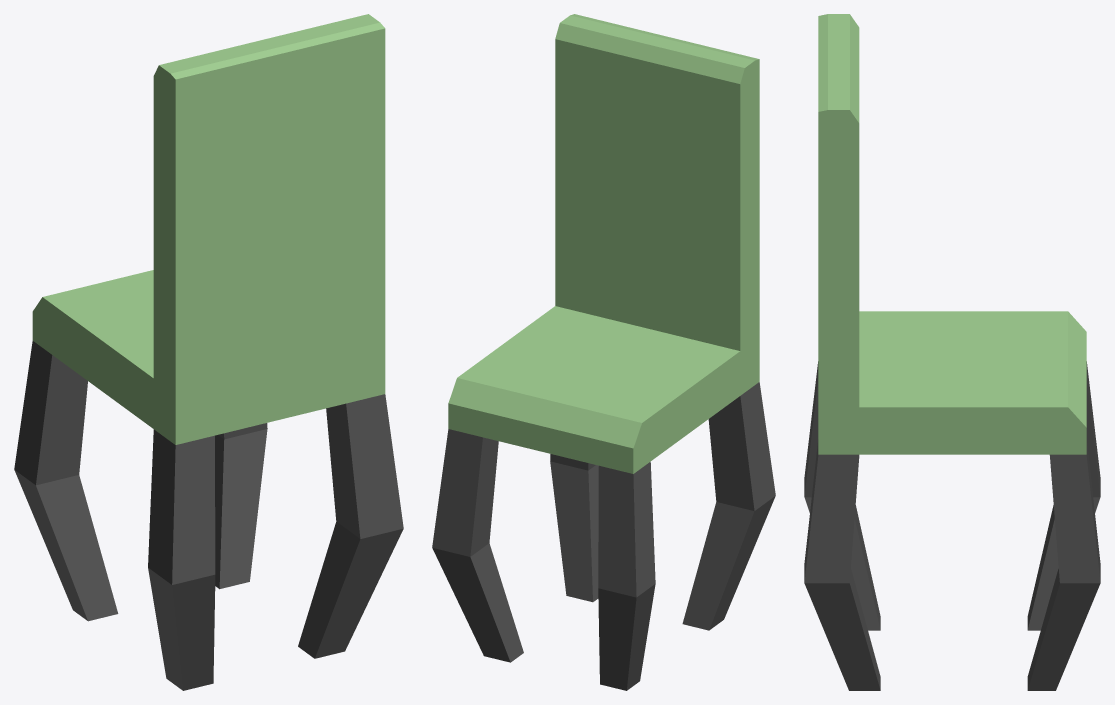
Rendered from Chair.fbx.
3 renders of one model, left to right at view 1: azimuth 30°, elevation 25°; view 2: azimuth 150°, elevation 25°; view 3: azimuth 270°, elevation 25°, orthographic. The views are drawn at different scales.
Parts seen in each view (by area): view 1: Chair; view 2: Chair; view 3: Chair.
Part boxes in pixels (box(x1,y1,x2,y2)): Chair: box(14, 14, 403, 690); Chair: box(432, 14, 775, 690); Chair: box(804, 14, 1100, 690).
Size of the model in its own units: 141 by 366 by 166.
